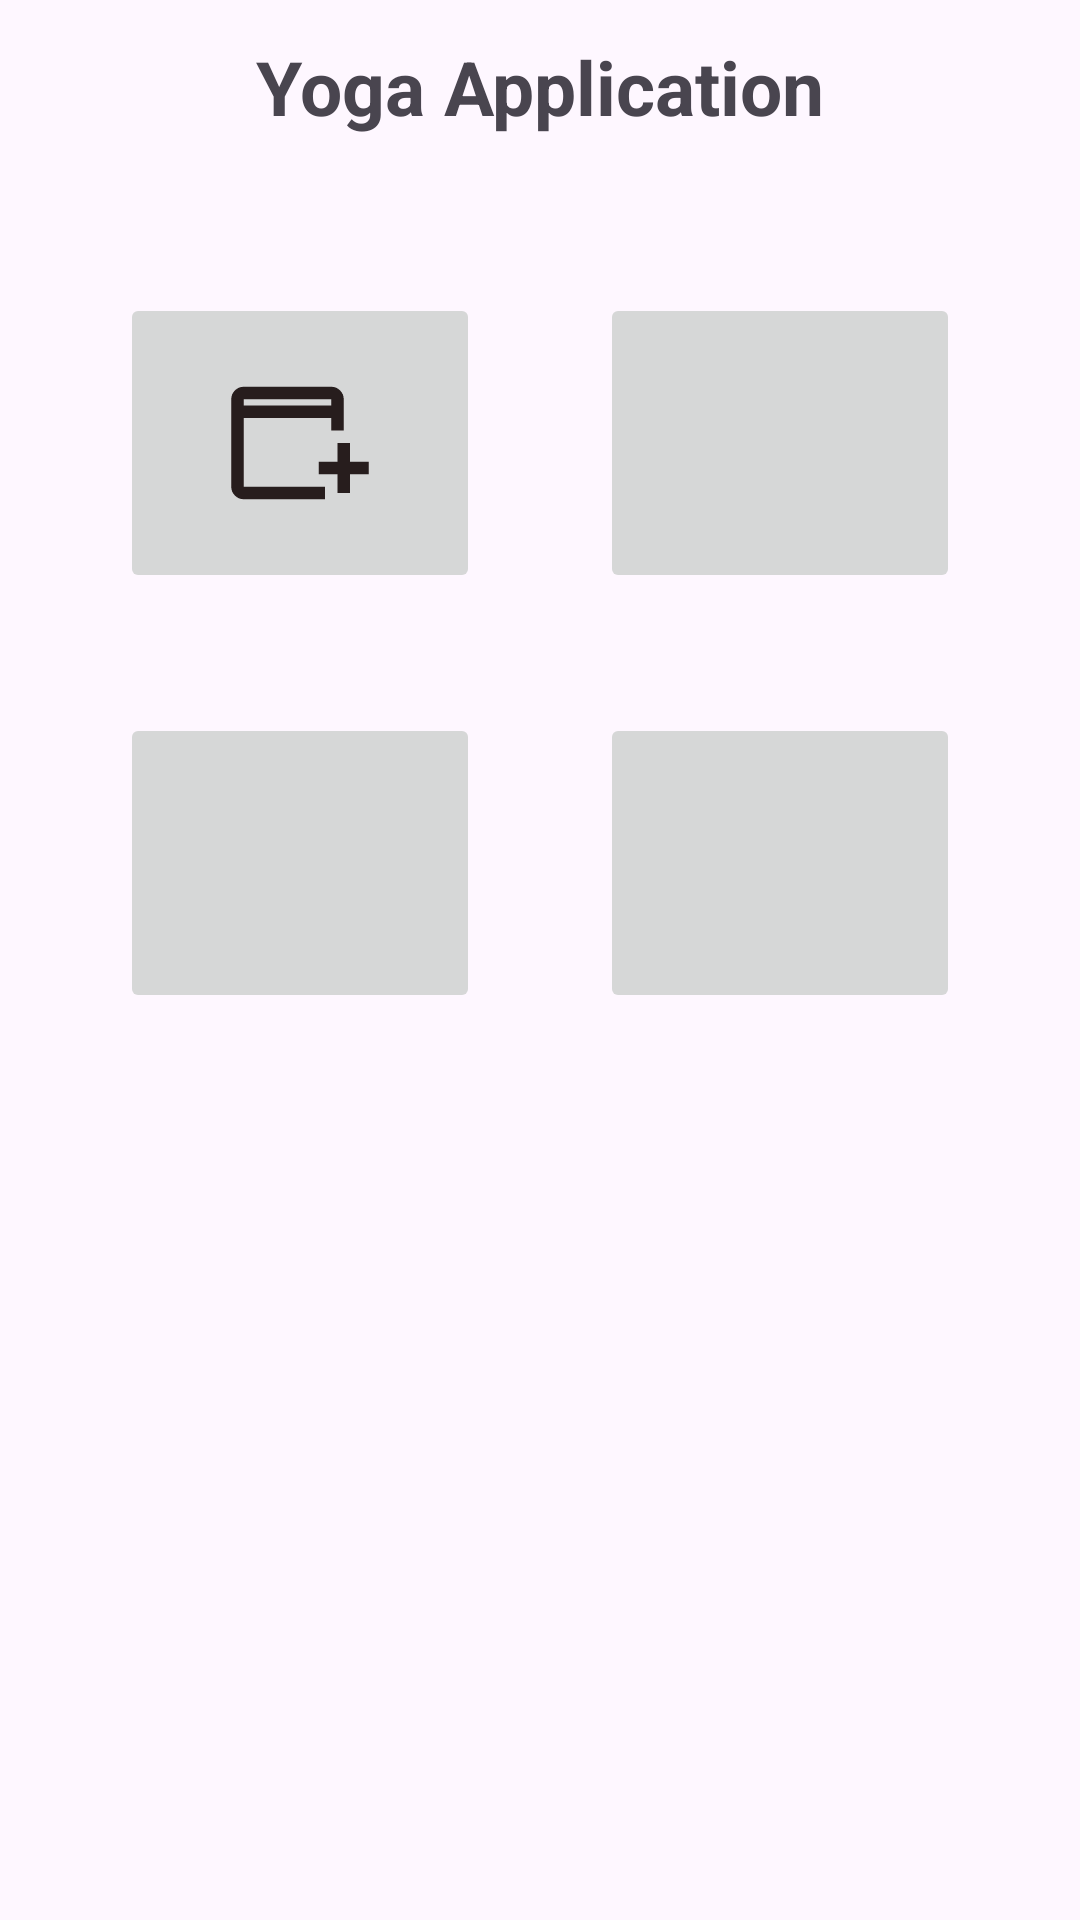

Named icons in this screenshot (1080px x 1920px) and their centers, (x,y):
add ad: (300,443)
